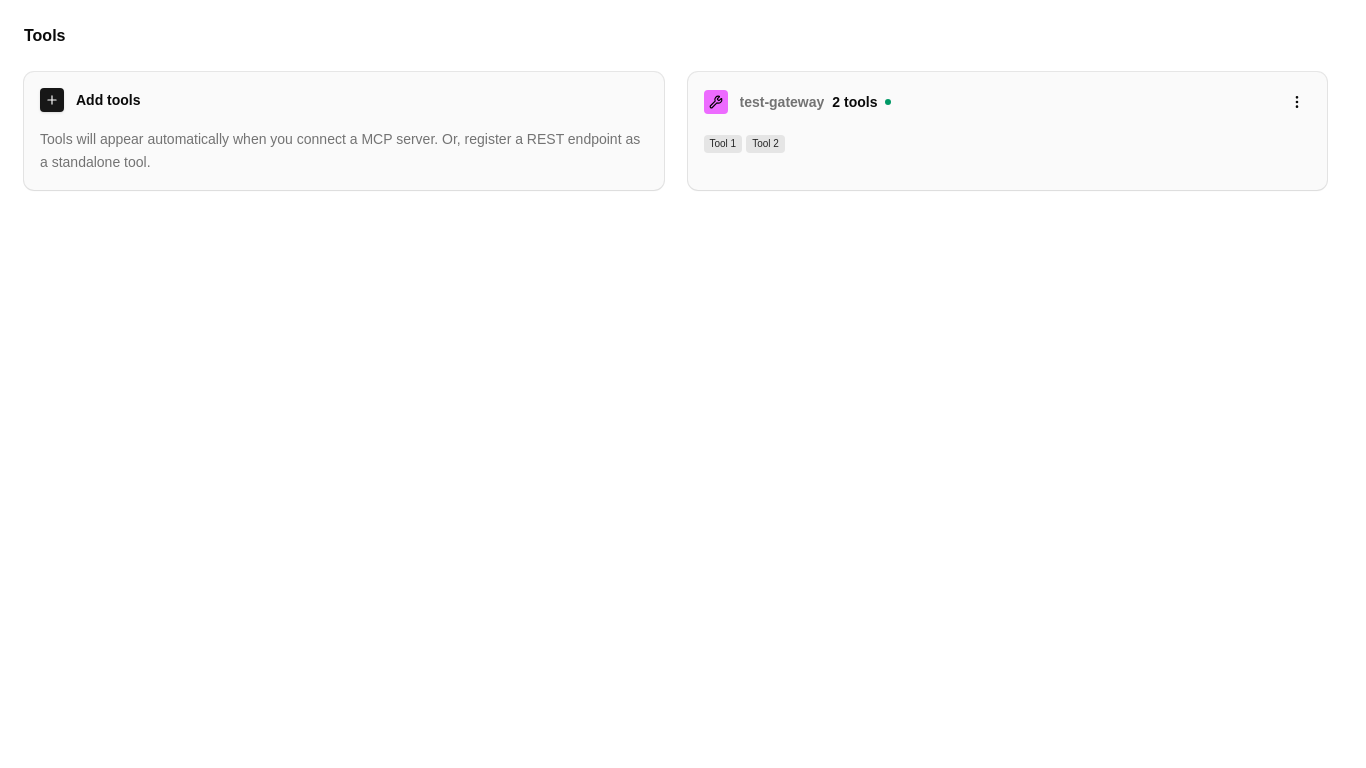
Tools › Dropdown Menu and Details Panel › opens details panel when clicking View Details menu item
The image size is (1366, 768).
Expected: the text "test-gateway" is shown, [740,92,824,112]
# Open dropdown menu
Step 1. Click the button named "More options for test-gateway" → [1297, 102], box [1283,88,1311,116]
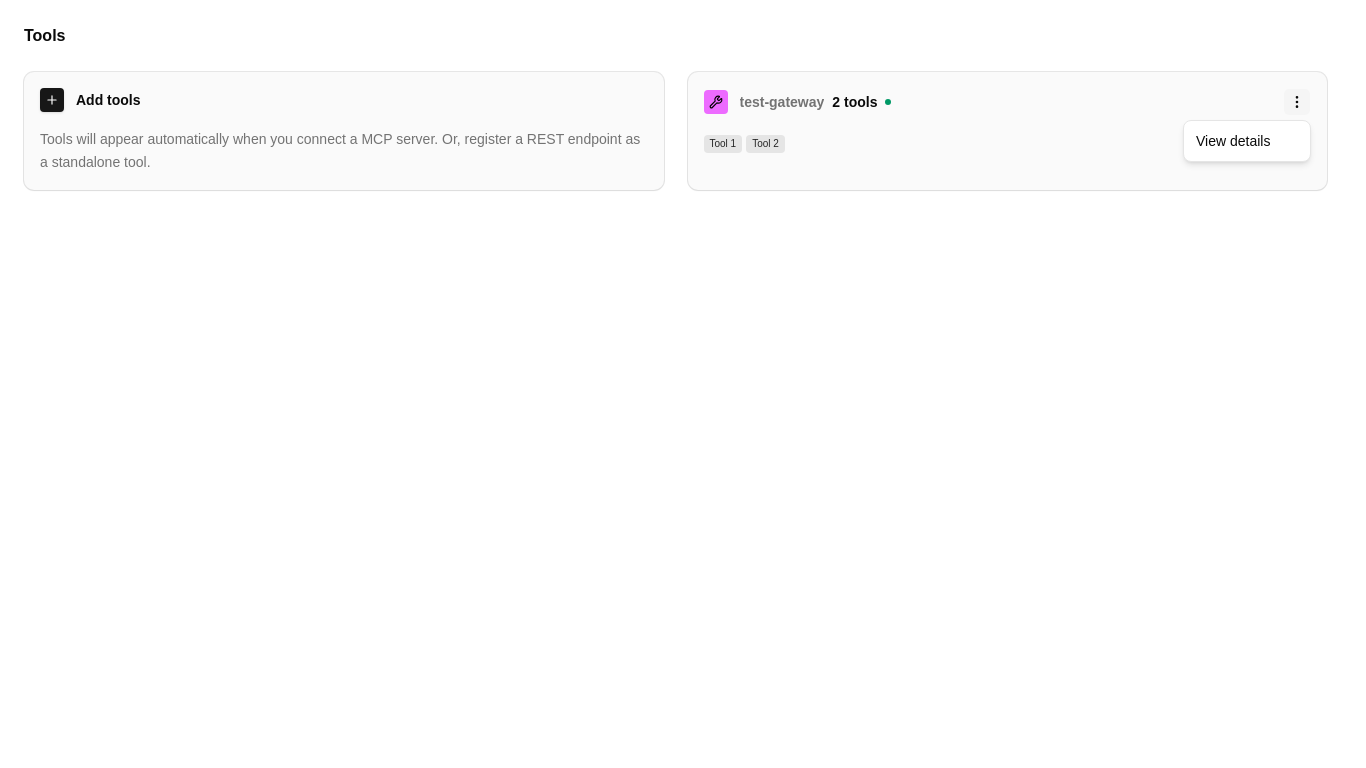
# Click View Details
Step 2. Click the menu item "View details" → [1233, 141], box [1196,133,1270,149]
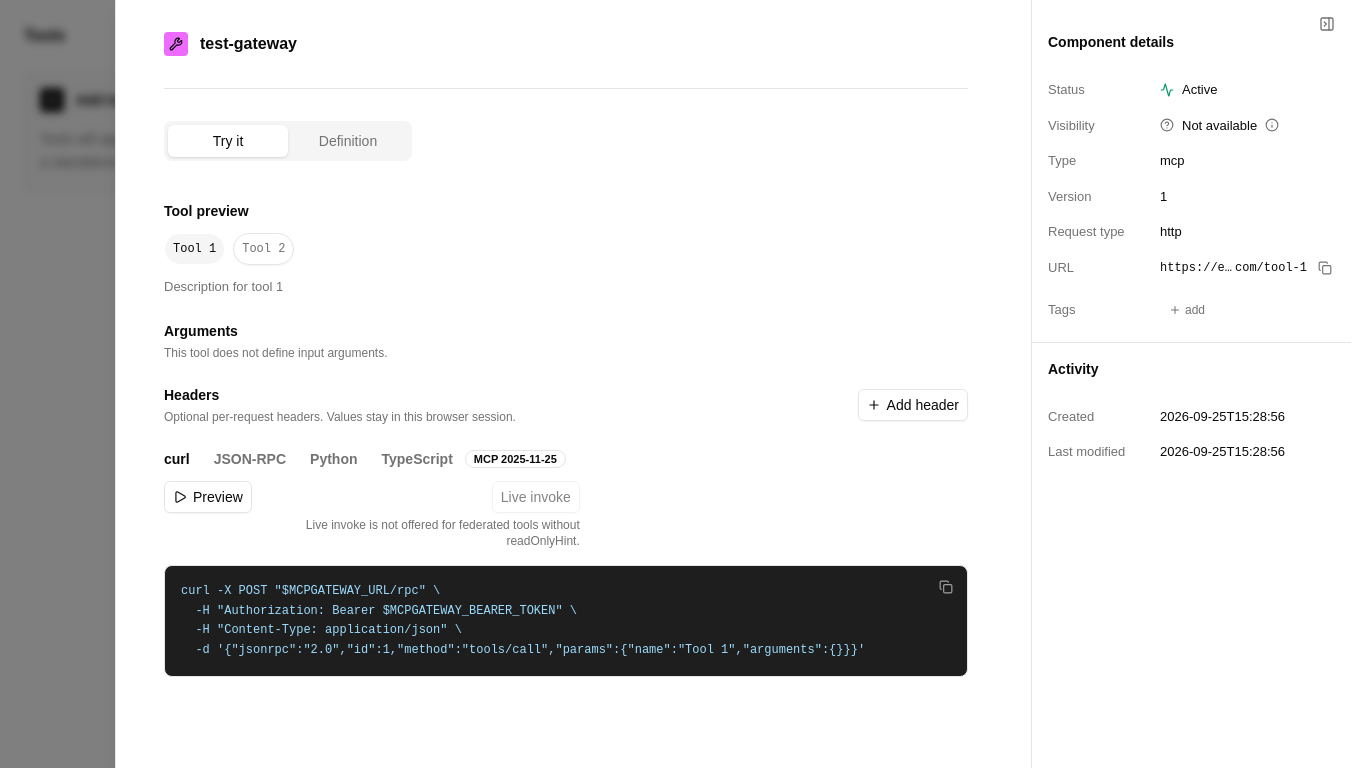
Expected: the element named "Tools for test-gateway" is shown
